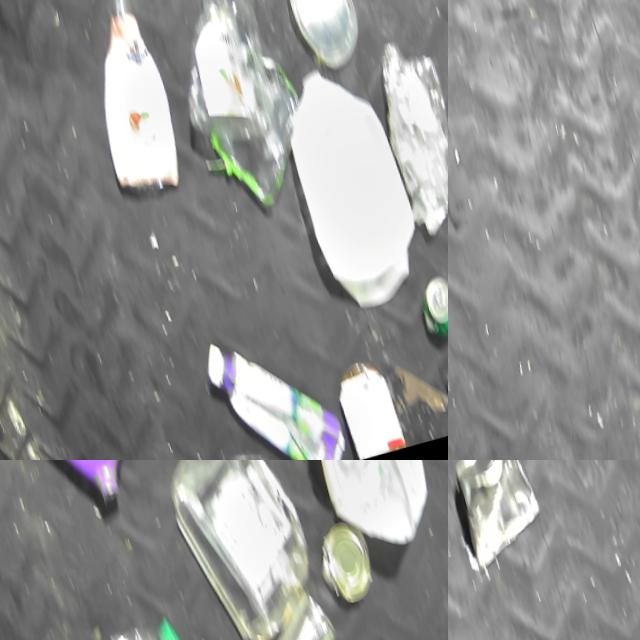can: (448, 460, 550, 578), (305, 520, 378, 615), (251, 588, 347, 640), (409, 273, 448, 346)
milk_jug: (271, 54, 431, 325), (290, 460, 441, 567)
plastic_bottle: (97, 606, 208, 640)
